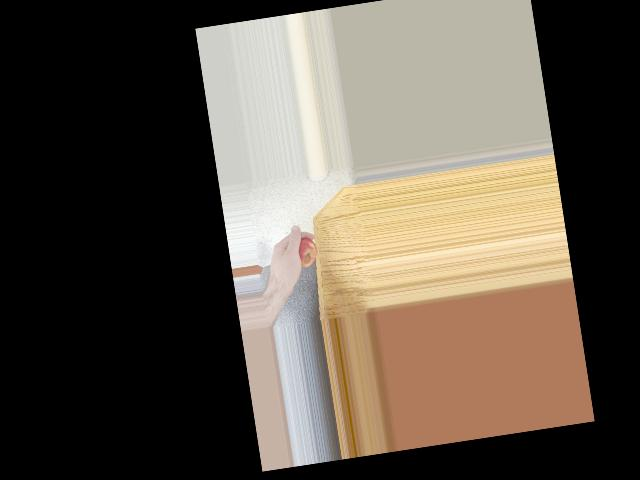apple: (290, 234, 320, 269)
